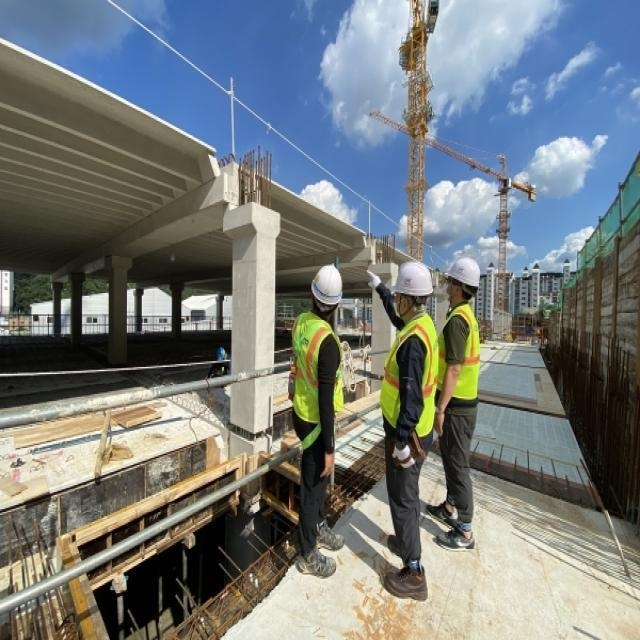Arnes_seguridad: (288, 304, 335, 470)
